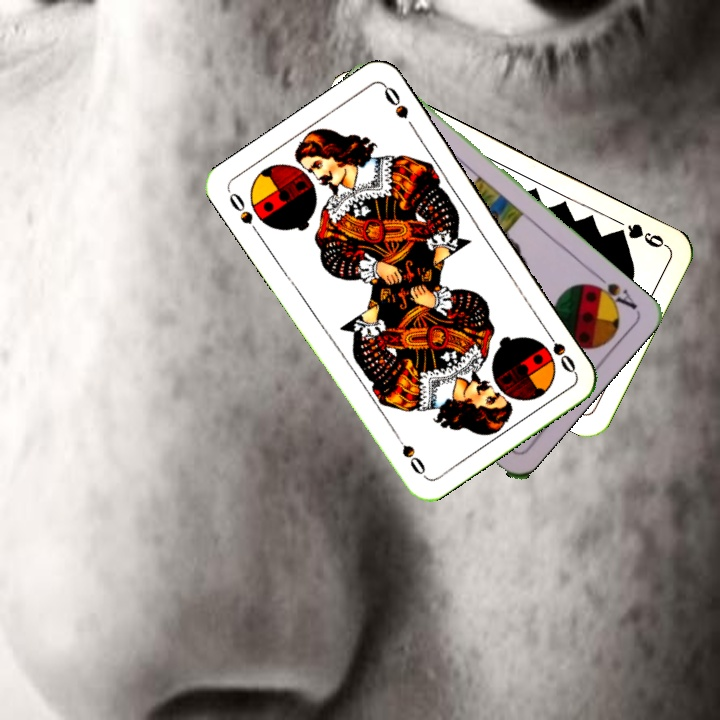G9: (610, 219, 670, 251)
SA: (584, 268, 640, 313)
SO: (540, 323, 579, 376), (224, 187, 263, 239)
